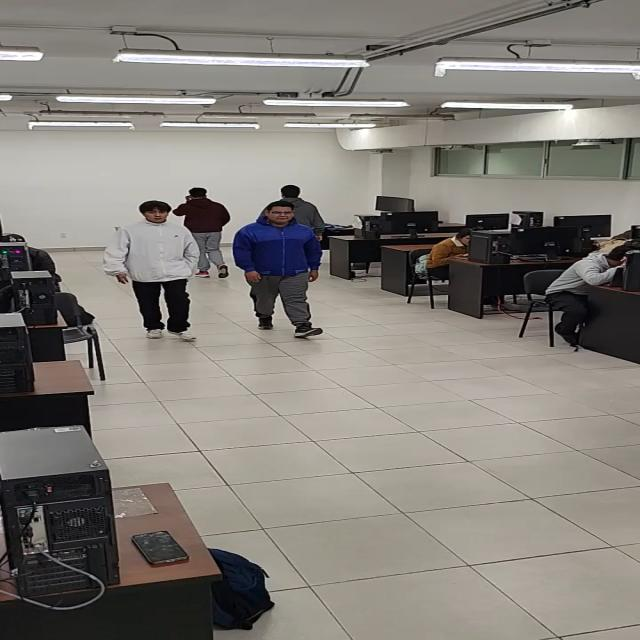Persona: (110, 200, 203, 342), (238, 202, 330, 340), (179, 185, 232, 278), (274, 180, 332, 233)
